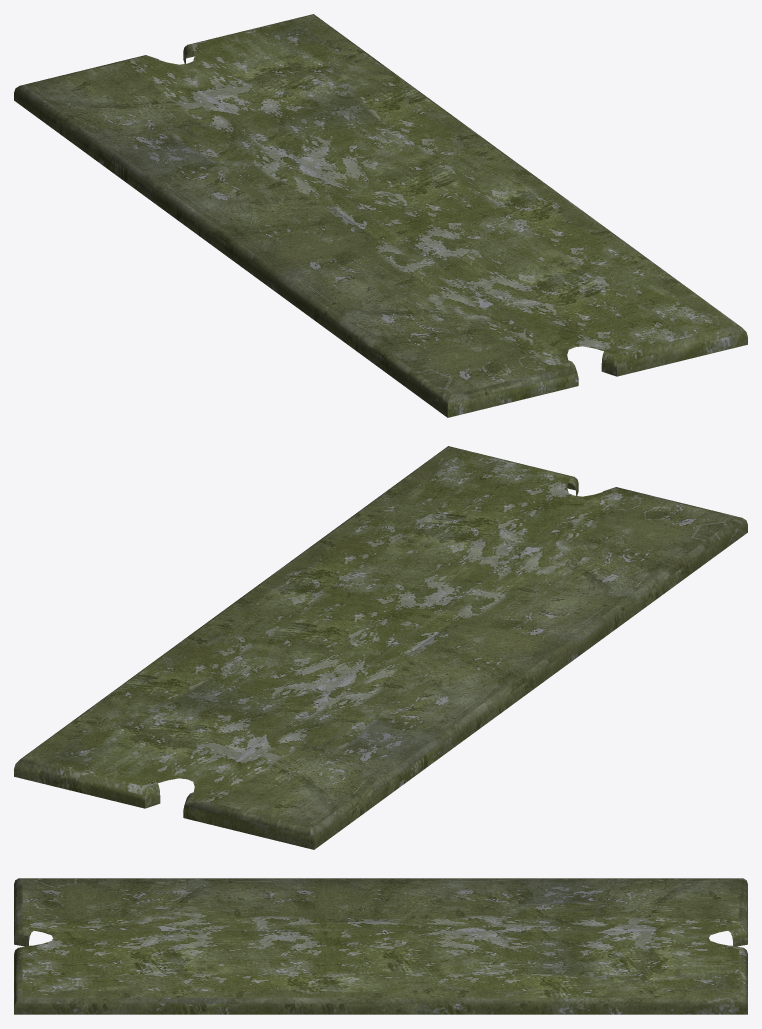
Rendered from F_RangeSelect_Frame_02.fbx.
3 views of the same model, one above another, from view 1: azimuth 30°, elevation 25°; view 2: azimuth 150°, elevation 25°; view 3: azimuth 270°, elevation 25° (orthographic). The views are drawn at different scales.
Visible parts, largest first — view 1: F_RangeSelect_Frame_02; view 2: F_RangeSelect_Frame_02; view 3: F_RangeSelect_Frame_02.
Boxes of the visible parts, x1,y1,x2,y2 form: F_RangeSelect_Frame_02: (14, 14, 747, 417); F_RangeSelect_Frame_02: (14, 446, 747, 849); F_RangeSelect_Frame_02: (14, 878, 747, 1014).
Size of the model in its own units: 27.98 by 1.52 by 70.
1 material, 1 textured.
